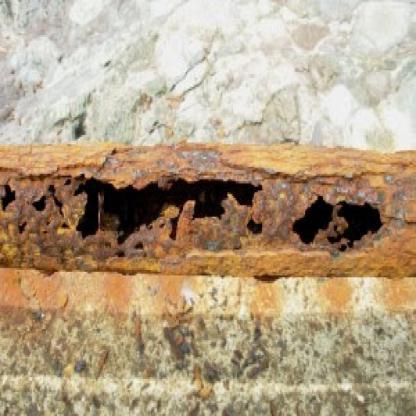burst: (65, 163, 261, 246), (286, 179, 389, 257)
